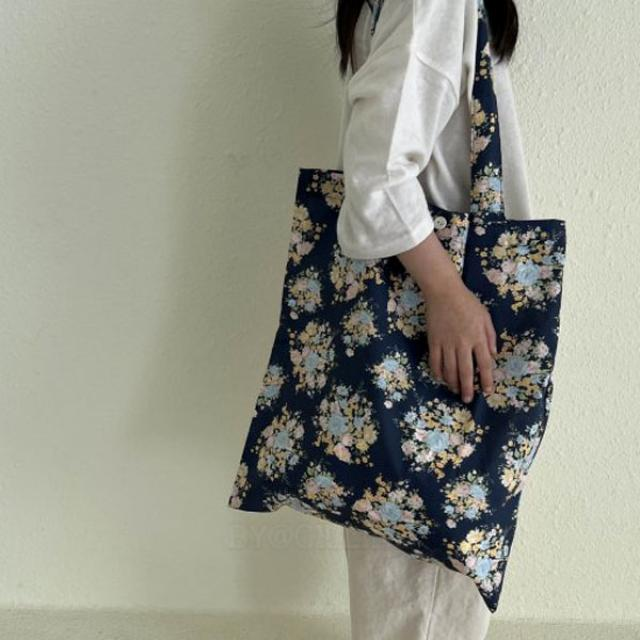ecobag: (238, 31, 576, 602)
